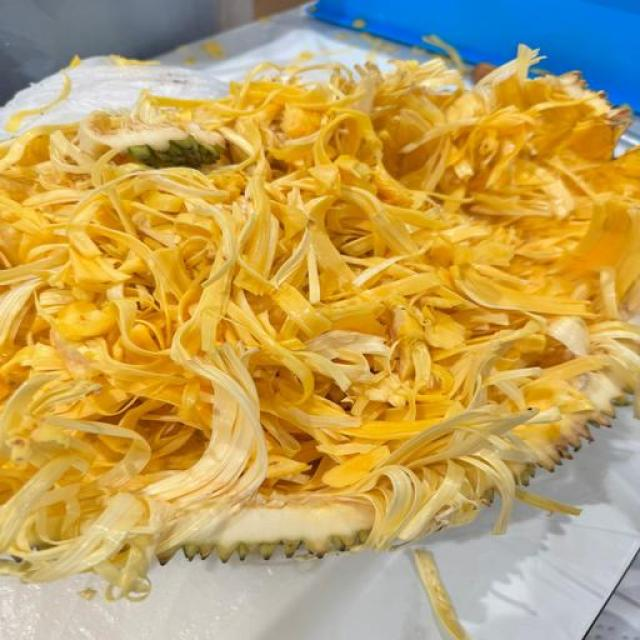organic: (2, 3, 640, 640), (128, 138, 222, 167)
